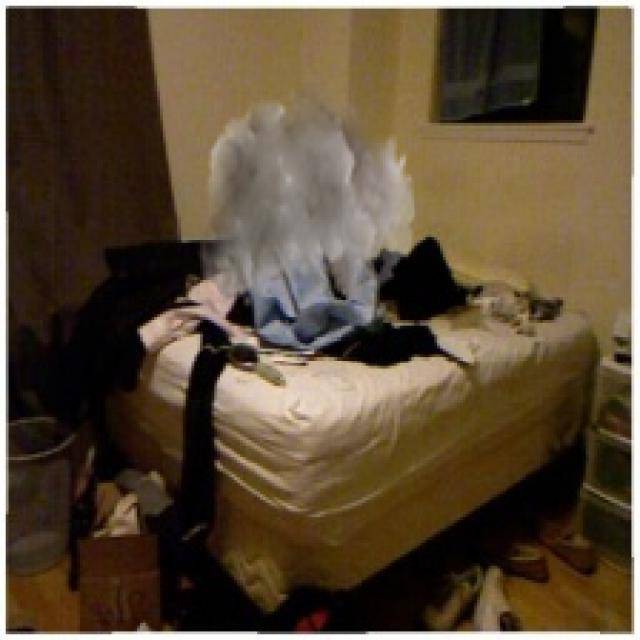Smoke: (197, 72, 417, 308)
